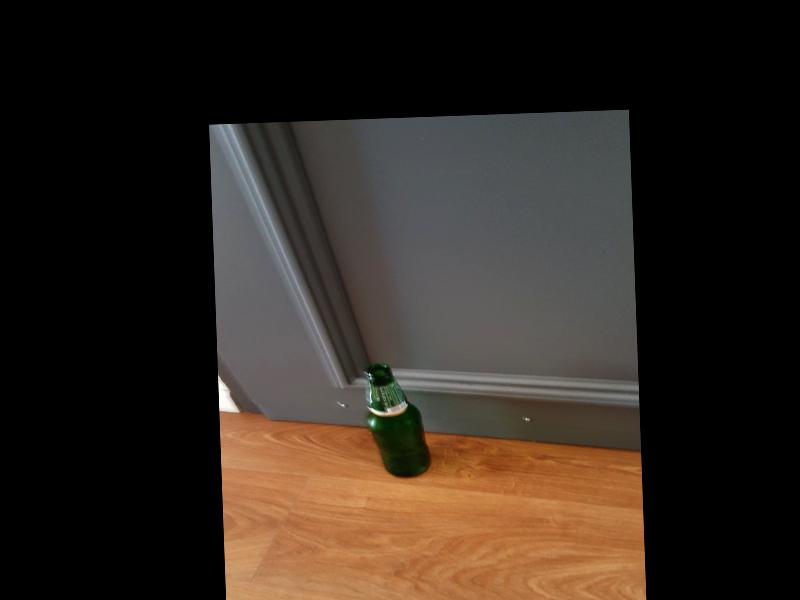Beer: (366, 364, 429, 478)
